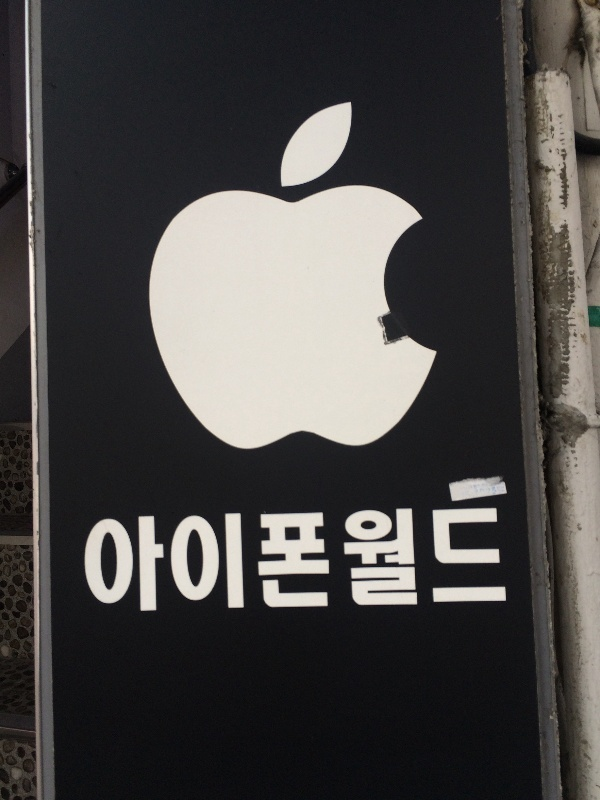text: (97, 469, 112, 630), (113, 469, 128, 630), (129, 469, 144, 630), (145, 469, 160, 630), (161, 469, 176, 630), (177, 469, 192, 630), (193, 469, 208, 630), (209, 469, 224, 630), (225, 469, 240, 630), (241, 469, 256, 630), (257, 469, 272, 630), (273, 469, 288, 630), (289, 469, 304, 630), (305, 469, 320, 630), (321, 469, 336, 630), (337, 469, 352, 630), (353, 469, 368, 630), (369, 469, 384, 630), (385, 469, 400, 630), (401, 469, 416, 630), (417, 469, 432, 630), (433, 469, 448, 630), (449, 469, 464, 630), (465, 469, 480, 630), (481, 469, 496, 630), (497, 469, 512, 630), (83, 469, 96, 630), (513, 469, 516, 630)
